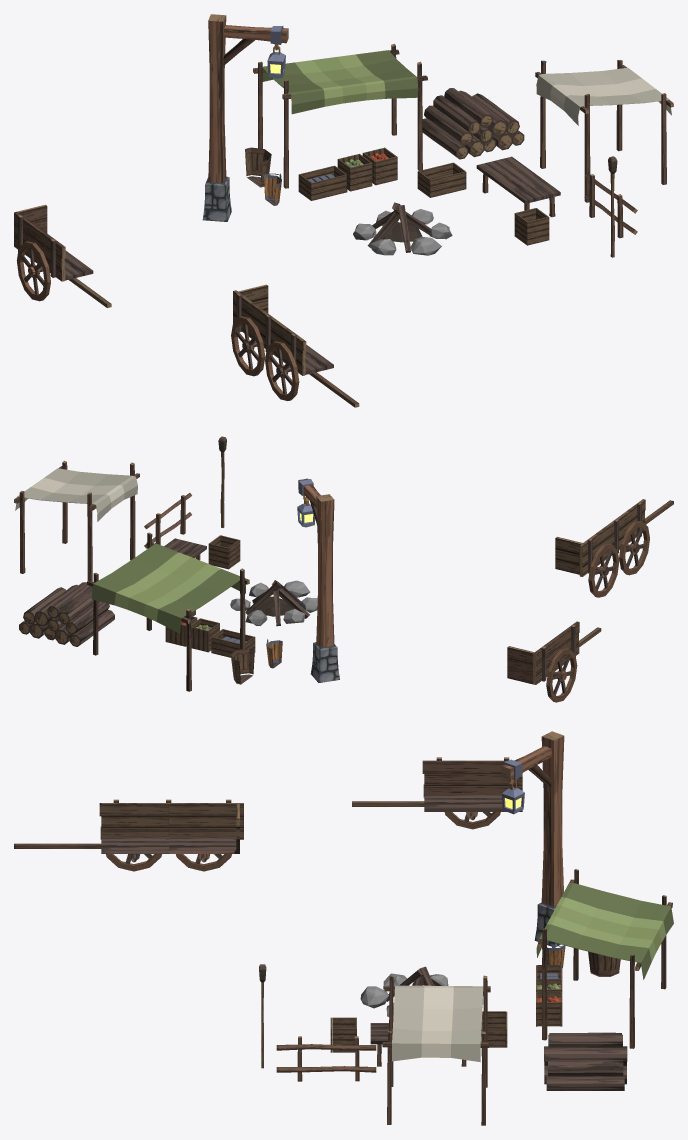
Rendered from props_cart_02.glb.
The picture shows the model from 3 angles, top to bottom: view 1: azimuth 30°, elevation 25°; view 2: azimuth 150°, elevation 25°; view 3: azimuth 270°, elevation 25°; orthographic projection. The views are drawn at different scales.
Visible parts, largest first — view 1: props_marketstall_B, props_marketstall_A, props_lamppost_01, props_woodpile_01, props_cart_02, props_campfire_01, props_cart_01, props_marketTable, props_emptycrate_B, props_ironcrate, props_cartwheel_02_A.001, props_cartwheel_01 (+6 smaller); view 2: props_marketstall_B, props_marketstall_A, props_lamppost_01, props_woodpile_01, props_cart_02, props_campfire_01, props_cart_01, props_cartwheel_02_A, props_cartwheel_02_A.001, props_cartwheel_01, props_emptycrate_A, props_ironcrate (+6 smaller); view 3: props_marketstall_B, props_marketstall_A, props_cart_02, props_lamppost_01, props_cart_01, props_woodpile_01, props_fence_01, props_campfire_01, props_emptycrate_A, props_emptycrate_B, props_applecrate_A, props_bucket.
Part boxes in pixels (x1,y1,x2,y2): props_marketstall_B: (253,43,427,188); props_marketstall_A: (535,60,673,202); props_lamppost_01: (202,14,288,221); props_woodpile_01: (422,88,524,159); props_cart_02: (233,284,359,407); props_campfire_01: (353,202,452,255); props_cart_01: (14,204,111,307); props_marketTable: (476,156,560,217); props_emptycrate_B: (417,162,466,197); props_ironcrate: (298,165,347,200); props_cartwheel_02_A.001: (231,316,265,376); props_cartwheel_01: (16,241,50,301); props_marketstall_B: (87,532,249,691); props_marketstall_A: (14,460,139,589); props_lamppost_01: (297,478,339,682); props_woodpile_01: (19,582,114,646); props_cart_02: (555,499,673,576); props_campfire_01: (230,580,317,626); props_cart_01: (507,621,601,684); props_cartwheel_02_A: (619,521,649,575); props_cartwheel_02_A.001: (588,543,619,597); props_cartwheel_01: (546,648,577,702); props_emptycrate_A: (208,535,240,569); props_ironcrate: (211,629,255,657); props_marketstall_B: (536,869,673,1048); props_marketstall_A: (382,975,490,1125); props_cart_02: (14,799,243,860); props_lamppost_01: (501,731,564,947); props_cart_01: (352,757,522,818); props_woodpile_01: (544,1032,627,1090); props_fence_01: (276,1036,376,1081); props_campfire_01: (360,966,448,1016); props_emptycrate_A: (330,1017,356,1052); props_emptycrate_B: (481,1011,507,1047); props_applecrate_A: (536,991,562,1026); props_bucket: (588,951,620,976).
Bounding box in the file's own units: 14.37 × 4.62 × 13.2.
Materials: 2 (1 with a texture image).
